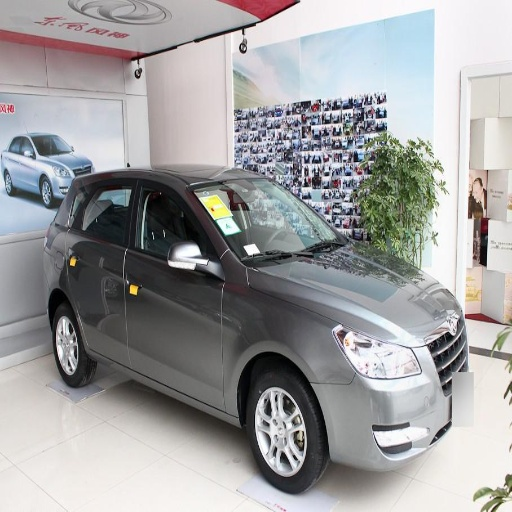front_bumper: (316, 334, 468, 468)
front_right_door: (125, 179, 227, 407)
front_right_light: (332, 324, 419, 379)
